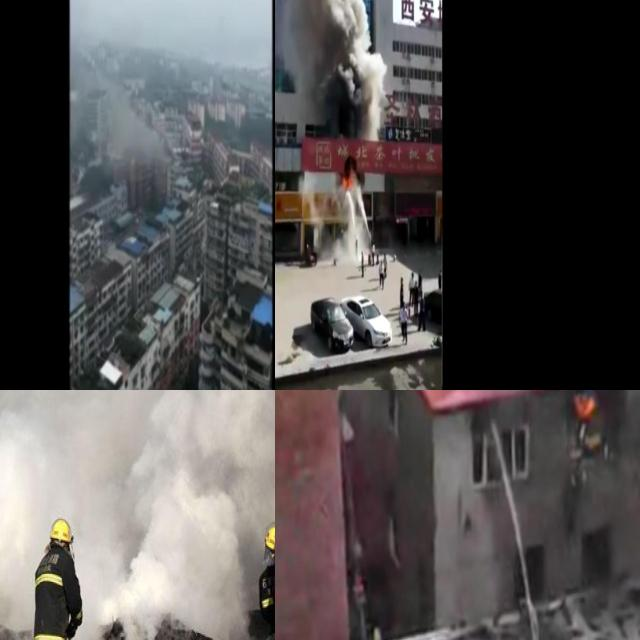fire: (573, 391, 596, 417), (340, 173, 353, 191)
smoke: (98, 489, 257, 640), (275, 0, 385, 139), (98, 70, 168, 166)
